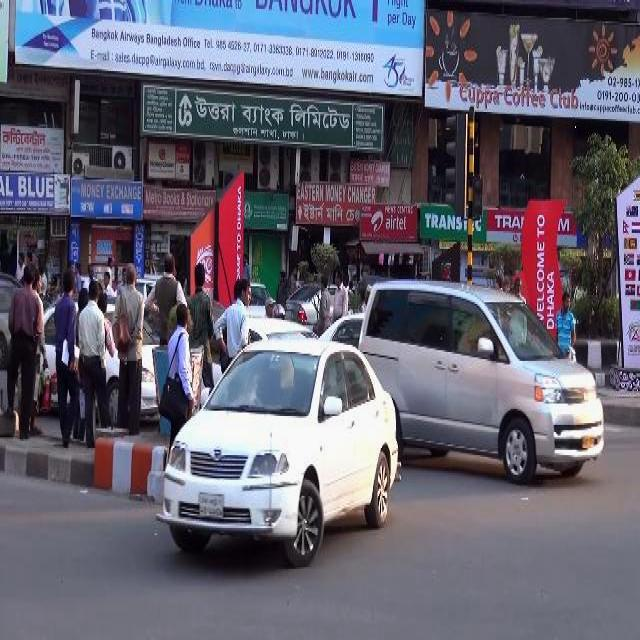car: (153, 336, 404, 574), (284, 277, 318, 327)
truck: (357, 272, 605, 484)
